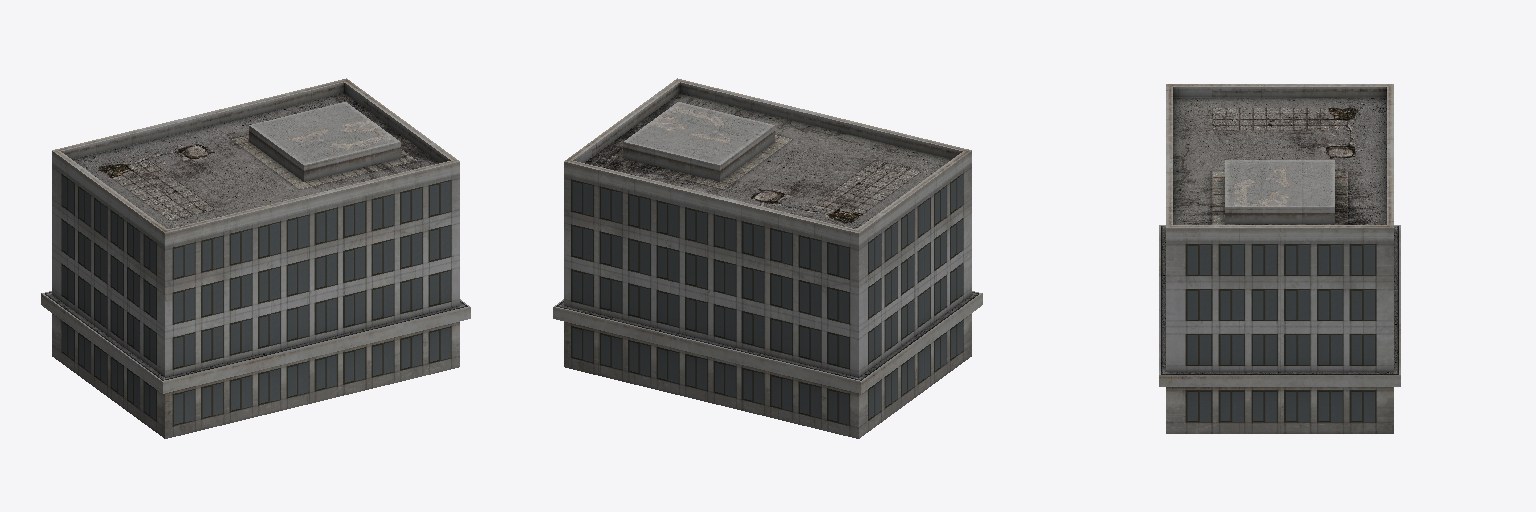
3 renders of one model, left to right at view 1: azimuth 30°, elevation 25°; view 2: azimuth 150°, elevation 25°; view 3: azimuth 270°, elevation 25°, orthographic.
Parts seen in each view (by area): view 1: edge_01; view 2: edge_01; view 3: edge_01.
Boxes of the visible parts, <box> form: edge_01: <box>41,78,470,438</box>; edge_01: <box>553,78,982,438</box>; edge_01: <box>1159,84,1400,433</box>.
Bounding box in the file's own units: 16.73 × 10.97 × 11.39.
Materials: 1 (1 with a texture image).